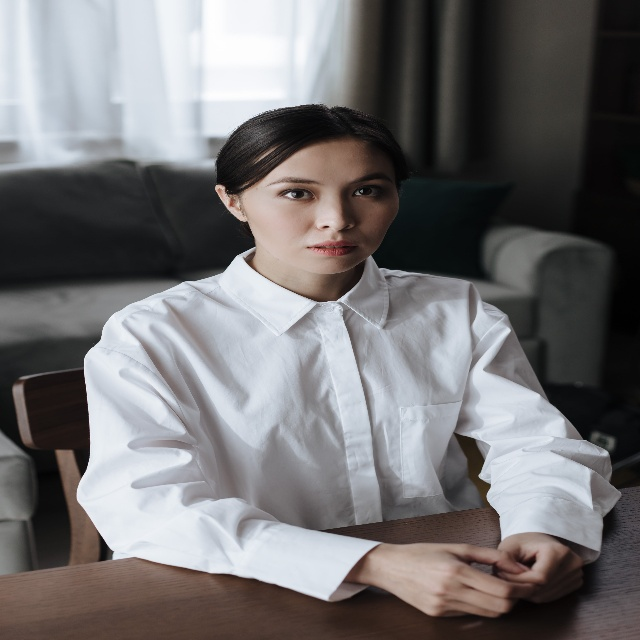Sin_guantes: (390, 537, 536, 621), (489, 532, 584, 606)
